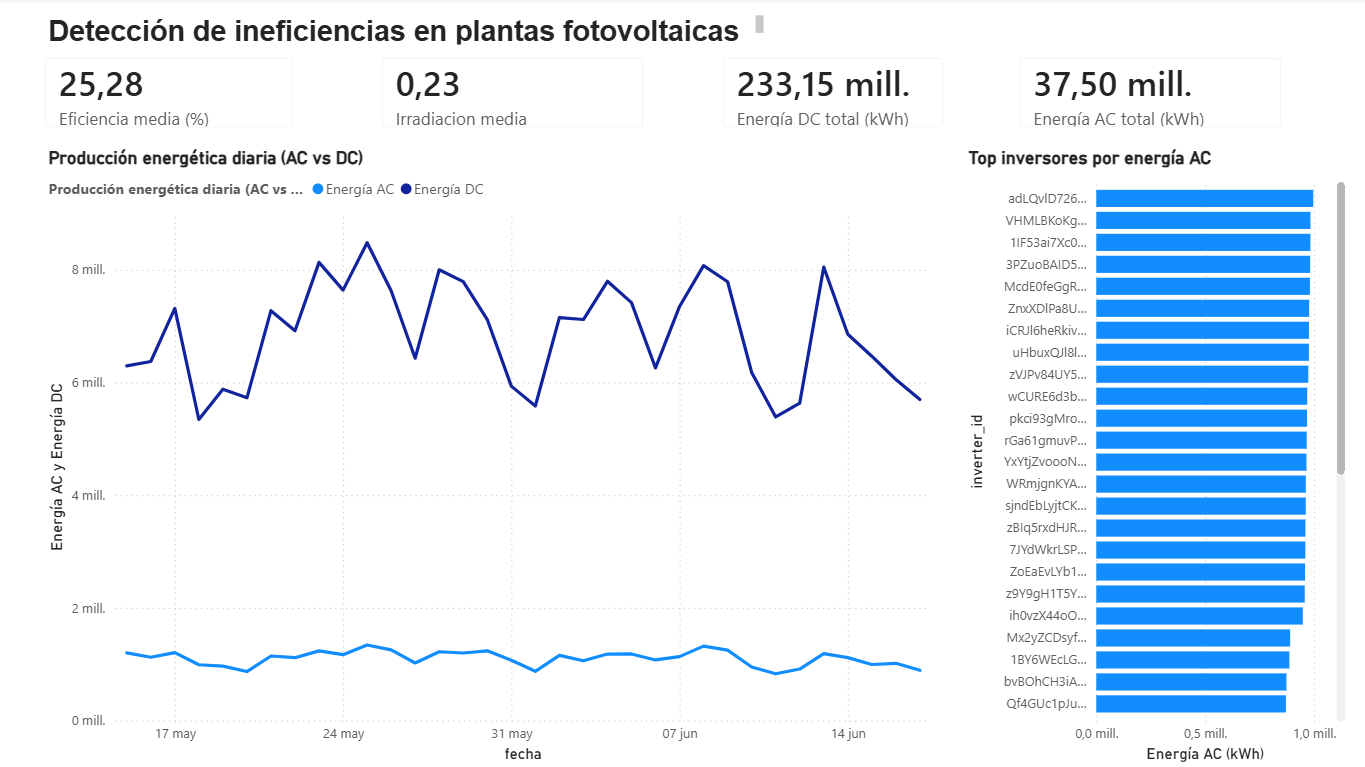

The dashboard page shown, as its layout file describes it:
{"tool":"powerbi","page":{"name":"Página 1","canvas":[1280,720],"ordinal":0},"visuals":[{"type":"cardVisual","fields":{"Data":["Sum(kpi_fotovoltaica (2).kw_ac_sum)"]},"box":[938.2,40.4,278.8,100],"z":0},{"type":"cardVisual","fields":{"Data":["Avg(kpi_fotovoltaica (2).eficiencia_mean)"]},"box":[28.8,40.4,265.3,100],"z":1},{"type":"cardVisual","fields":{"Data":["Sum(kpi_fotovoltaica (2).kw_dc_sum)"]},"box":[661.4,40.4,240.3,100],"z":3},{"type":"cardVisual","fields":{"Data":["Avg(kpi_fotovoltaica (2).irradiacion_mean)"]},"box":[342.2,40.4,278.8,100],"z":4},{"type":"lineChart","title":"Producción energética diaria (AC vs DC)","fields":{"Category":["kpi_fotovoltaica (2).fecha"],"Y":["Sum(kpi_fotovoltaica (2).kw_ac_sum)","Sum(kpi_fotovoltaica (2).kw_dc_sum)"]},"box":[44.2,140.3,840.2,578.7],"z":6},{"type":"barChart","title":"Top inversores por energía AC","fields":{"Category":["kpi_fotovoltaica (2).inverter_id"],"Y":["Sum(kpi_fotovoltaica (2).kw_ac_sum)"]},"box":[901.7,140.3,361.4,578.7],"z":7},{"type":"textbox","box":[43.9,12.3,677.4,37],"z":8}]}

Visuals, with their boxes in screenshot pixels (x1, y1, x2, y2), scaled from the page's 1280x720 canvas onto the 1365x767 screenshot:
cardVisual - Sum(kpi_fotovoltaica (2).kw_ac_sum): l=1001, t=43, r=1298, b=150
cardVisual - Avg(kpi_fotovoltaica (2).eficiencia_mean): l=31, t=43, r=314, b=150
cardVisual - Sum(kpi_fotovoltaica (2).kw_dc_sum): l=705, t=43, r=962, b=150
cardVisual - Avg(kpi_fotovoltaica (2).irradiacion_mean): l=365, t=43, r=662, b=150
"Producción energética diaria (AC vs DC)" lineChart: l=47, t=149, r=943, b=766
"Top inversores por energía AC" barChart: l=962, t=149, r=1347, b=766
textbox: l=47, t=13, r=769, b=53
